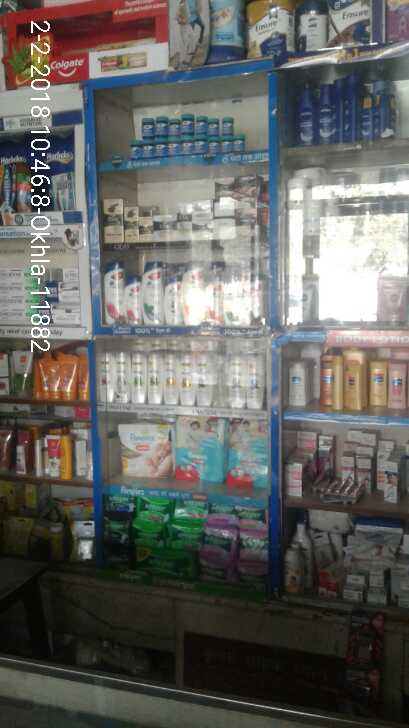vicks: (128, 113, 246, 161)
